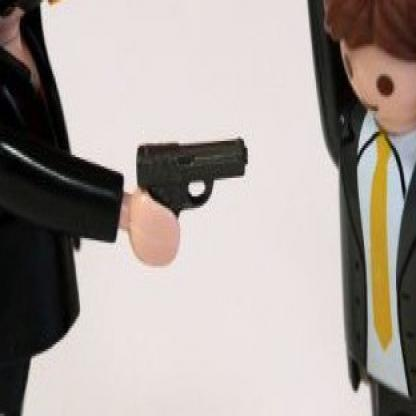gun: (129, 132, 264, 261)
